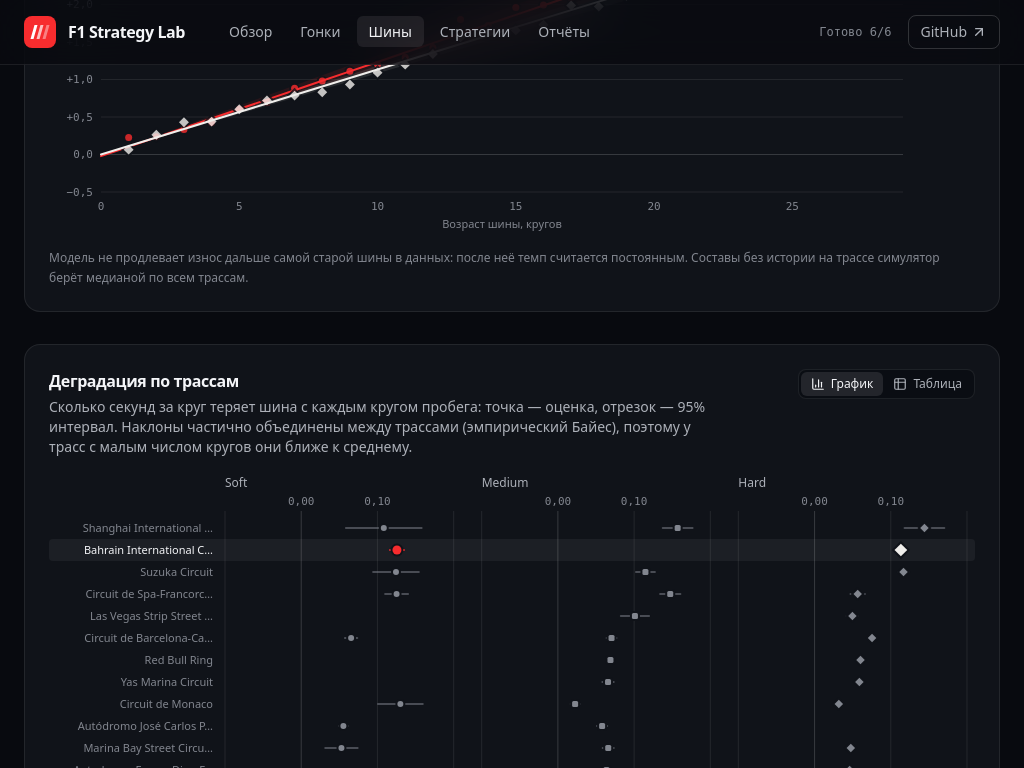
Test: TyresPage › compares the circuits and highlights the selected one
The image size is (1024, 768).
(page scrolled)
What coordinates should you click on to do the following:
click the button "Таблица"
I would click on:
 (928, 384)
Its box is [883,372,972,396].
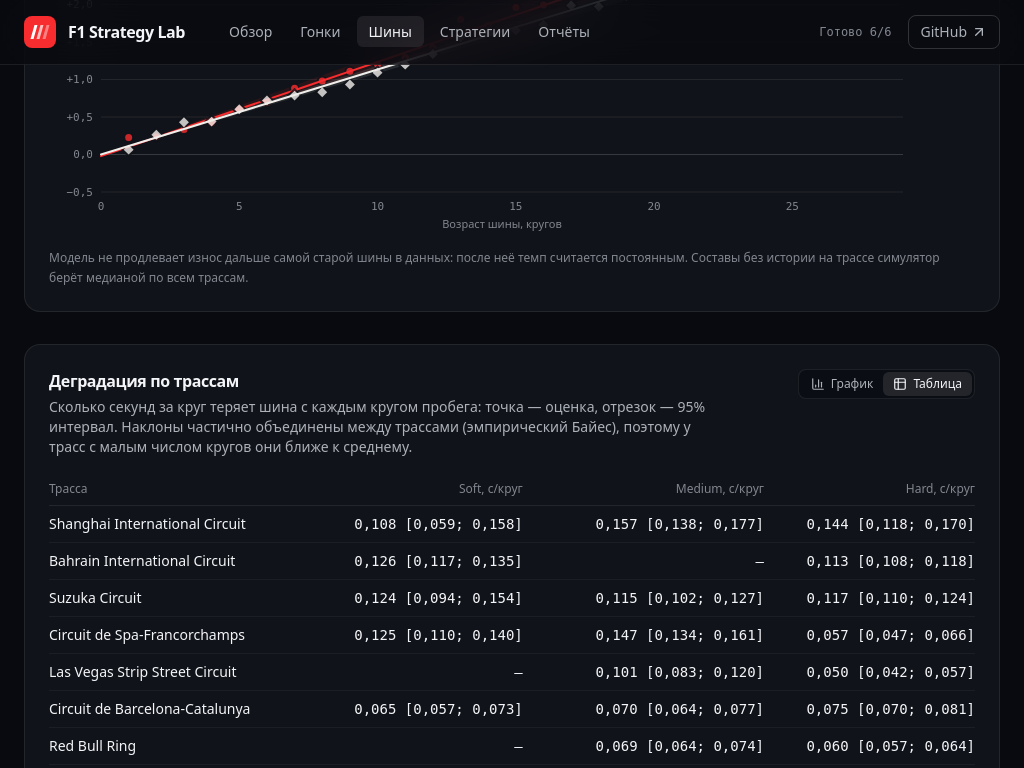
Result: the number of rows is 25
Result: the text "Bahrain International Circuit" is shown at [49,542,309,580]
